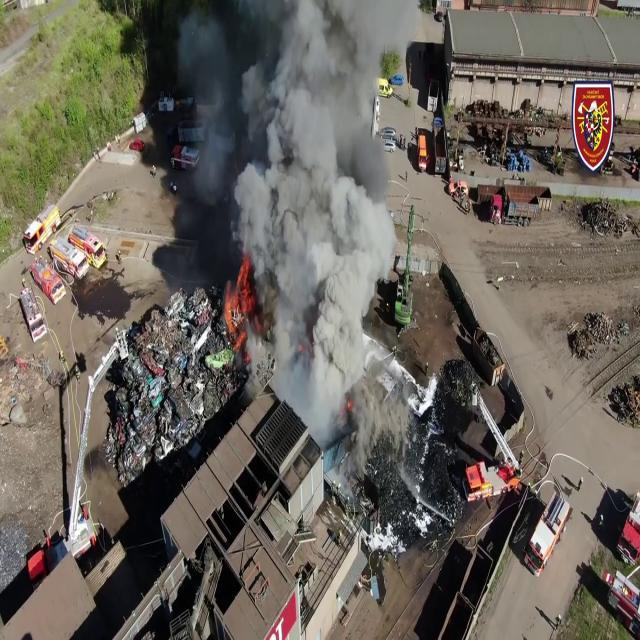Fire: (223, 254, 256, 350)
Smoke: (152, 0, 403, 413)
